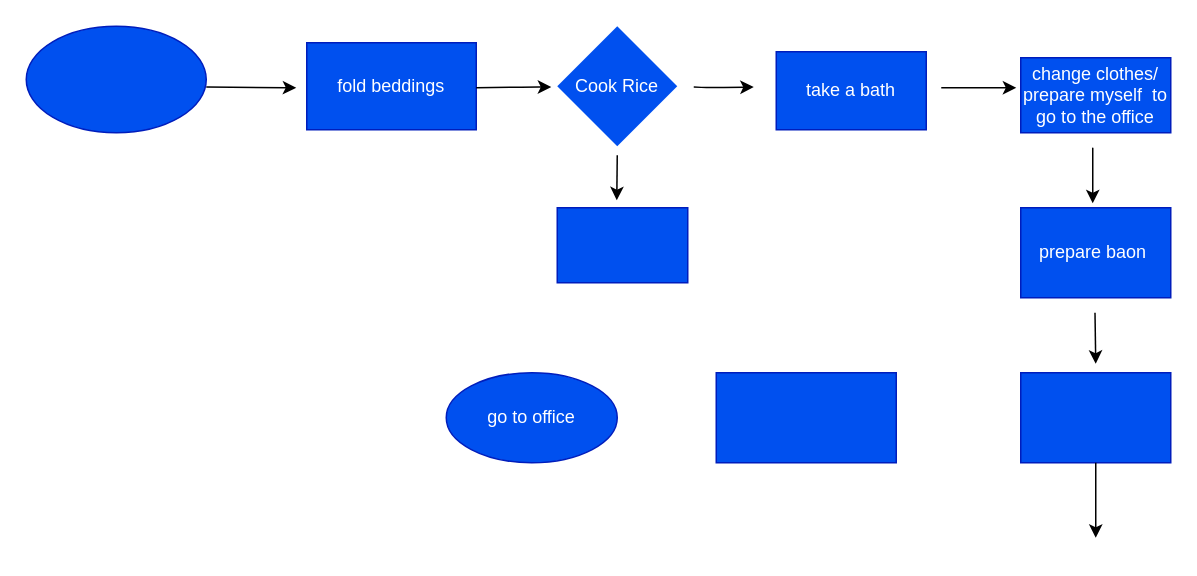
Image size: 1197x576. Some labels were removed from this diagram. The centre of each missing label's shape, as x and y in pixels:
"breakfast" goes at (1095,417).
"exercise" goes at (622,244).
"wake up and pray" goes at (115,79).
